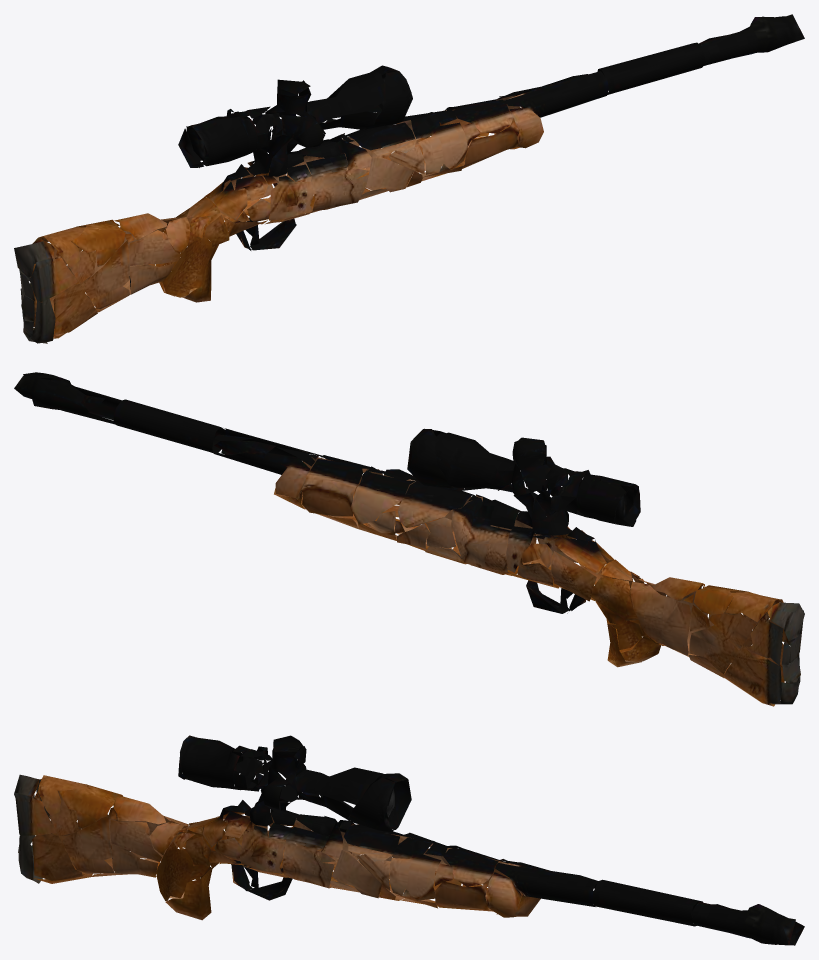
The model's file is hash-rail.glb.
3 views of the same model, one above another, from view 1: azimuth 30°, elevation 25°; view 2: azimuth 150°, elevation 25°; view 3: azimuth 330°, elevation 25° (orthographic).
Parts seen in each view (by area): view 1: HMH Weapon | hash-rail; view 2: HMH Weapon | hash-rail; view 3: HMH Weapon | hash-rail.
Part boxes in pixels (bbox=[...]): HMH Weapon | hash-rail: bbox=[14, 14, 804, 343]; HMH Weapon | hash-rail: bbox=[14, 372, 804, 706]; HMH Weapon | hash-rail: bbox=[14, 735, 804, 945].
Size of the model in its own units: 1.15 by 0.2824 by 0.1085.
1 material, 1 textured.
